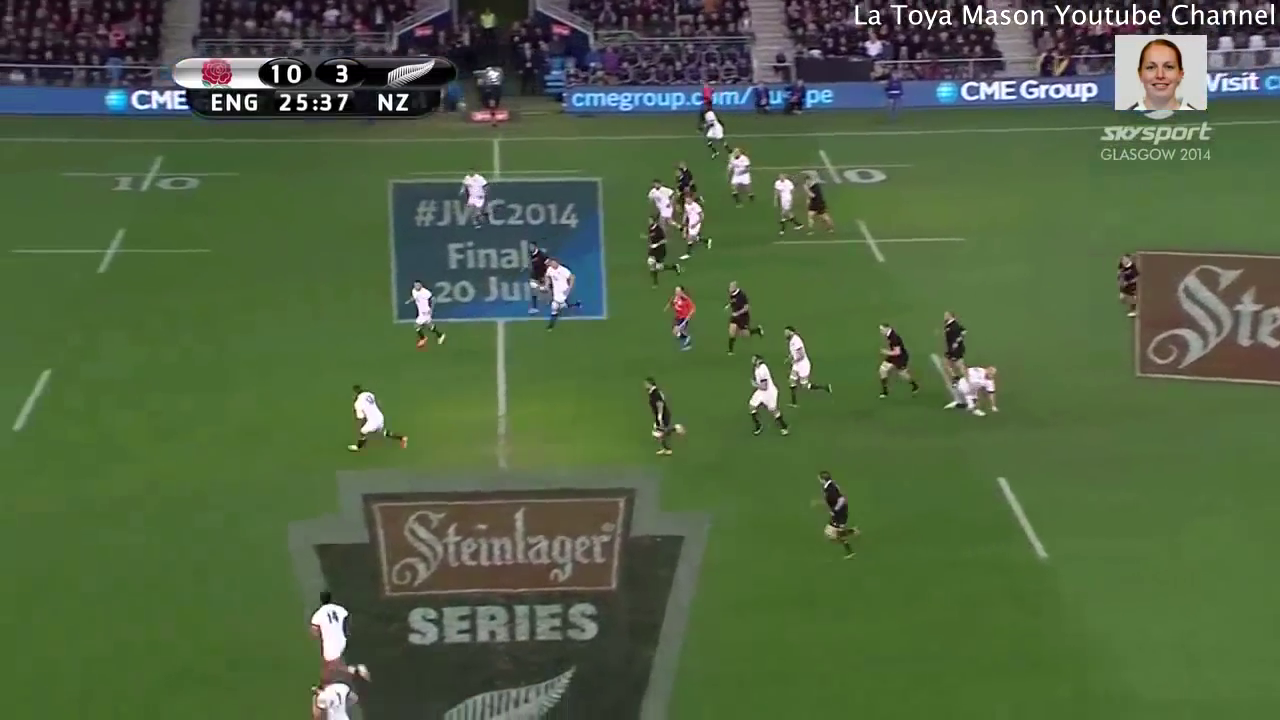10_metre: (4, 221, 217, 279), (763, 216, 971, 268), (55, 150, 246, 200), (744, 147, 918, 189)
player: (305, 588, 372, 687), (341, 380, 416, 459), (805, 467, 863, 562), (868, 313, 926, 403), (736, 352, 794, 441), (777, 322, 834, 412), (397, 273, 452, 355), (640, 372, 685, 462), (717, 276, 766, 358), (657, 282, 705, 357), (931, 304, 972, 388), (637, 215, 683, 288), (538, 259, 585, 330), (767, 168, 809, 243), (640, 178, 684, 246), (945, 362, 1003, 413), (305, 670, 360, 720), (693, 104, 739, 163), (520, 237, 552, 317), (799, 172, 838, 237), (456, 167, 494, 232), (725, 144, 760, 213), (677, 194, 713, 260), (1111, 249, 1143, 319), (670, 167, 696, 209), (679, 161, 703, 198)
